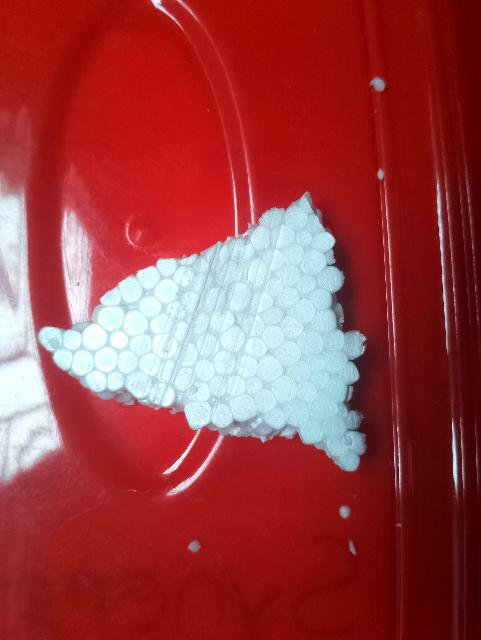cocksheet: (63, 203, 354, 498)
